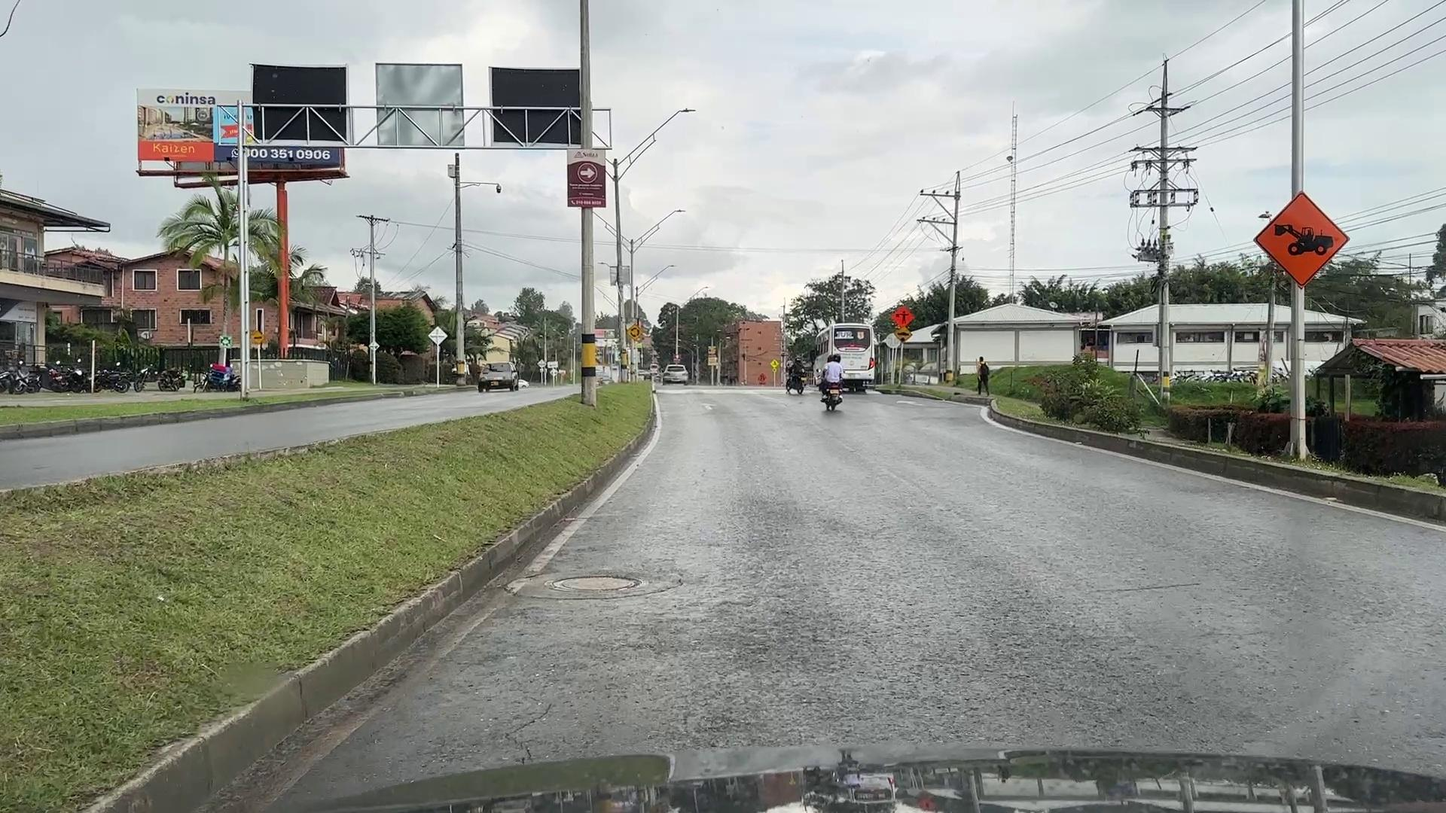registro: (553, 575, 642, 591)
